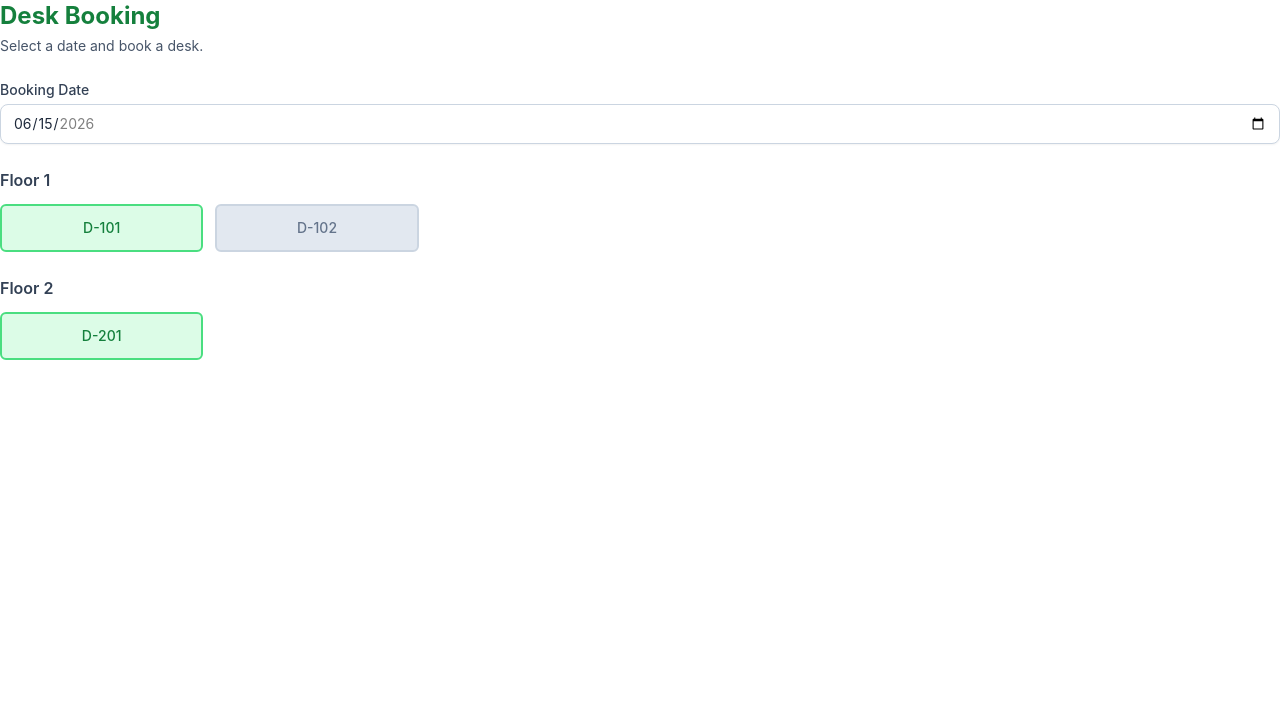
DeskBookingPage › closes dialog on cancel
Step 1. Click the button "D-101" → (102, 228), box [0, 204, 203, 252]
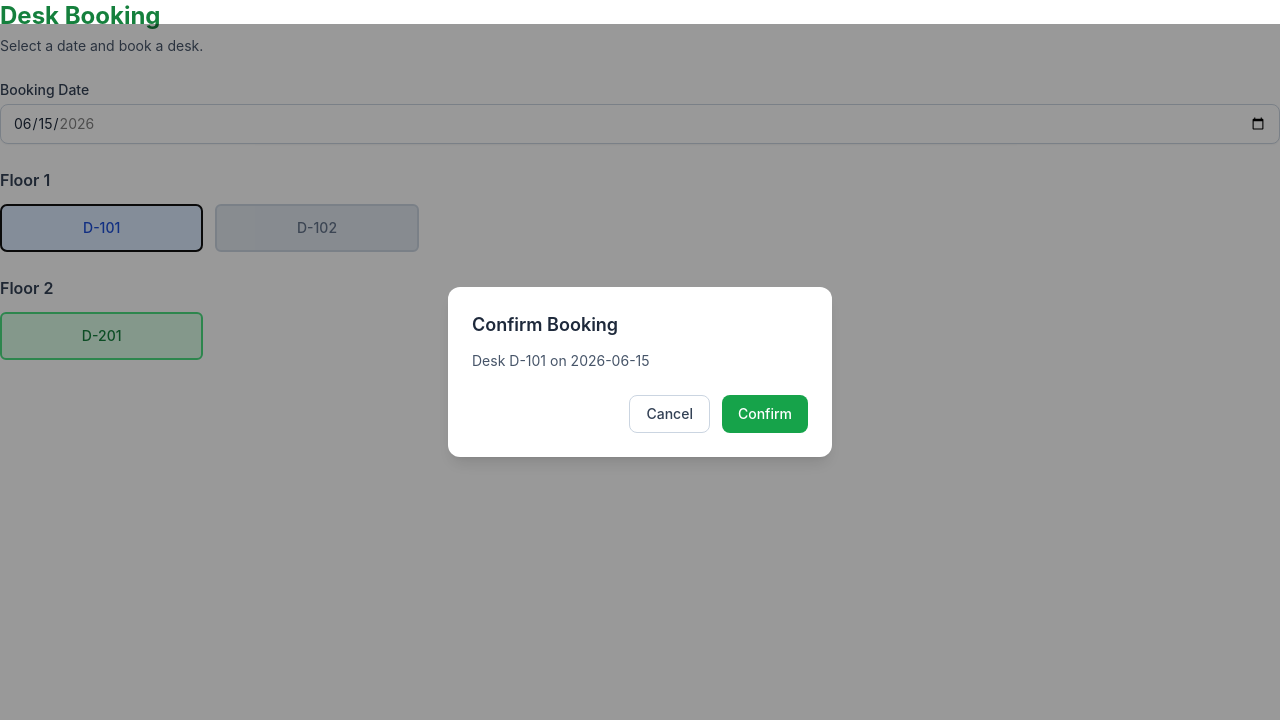
Result: the dialog is shown
Step 2. Click the button "Cancel" → (670, 414), box [630, 395, 710, 433]
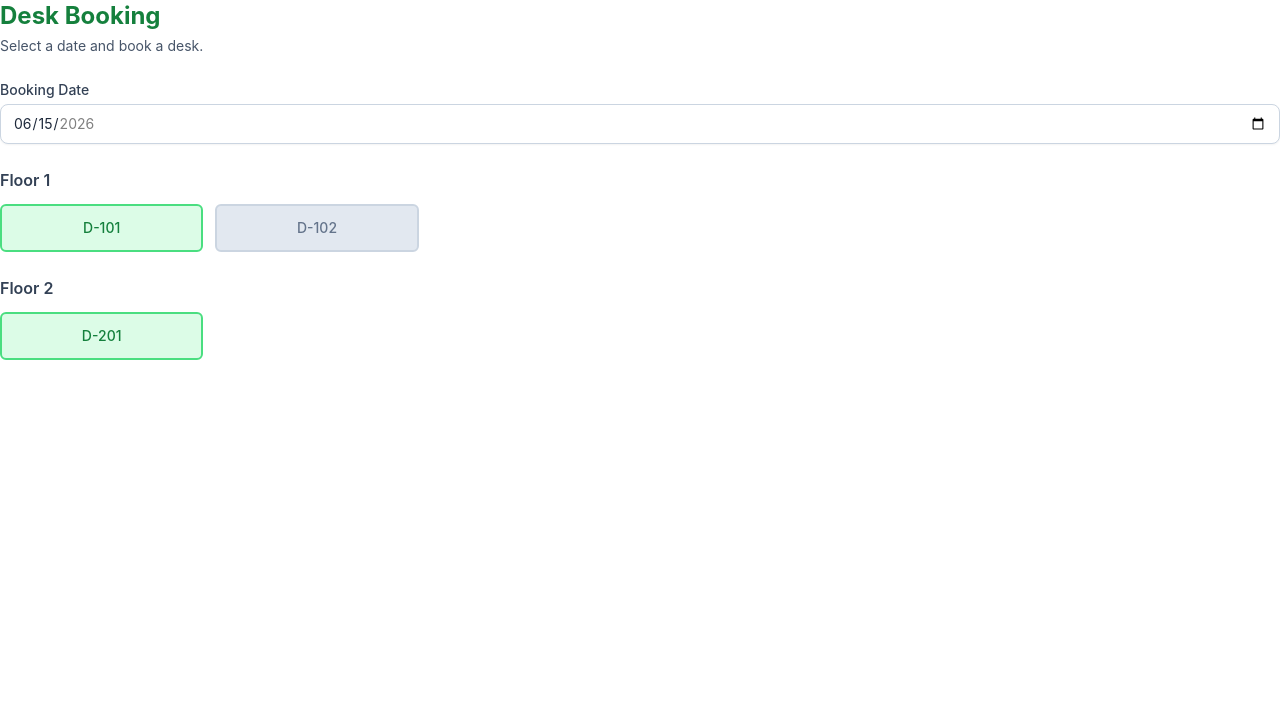
Result: the dialog is gone
